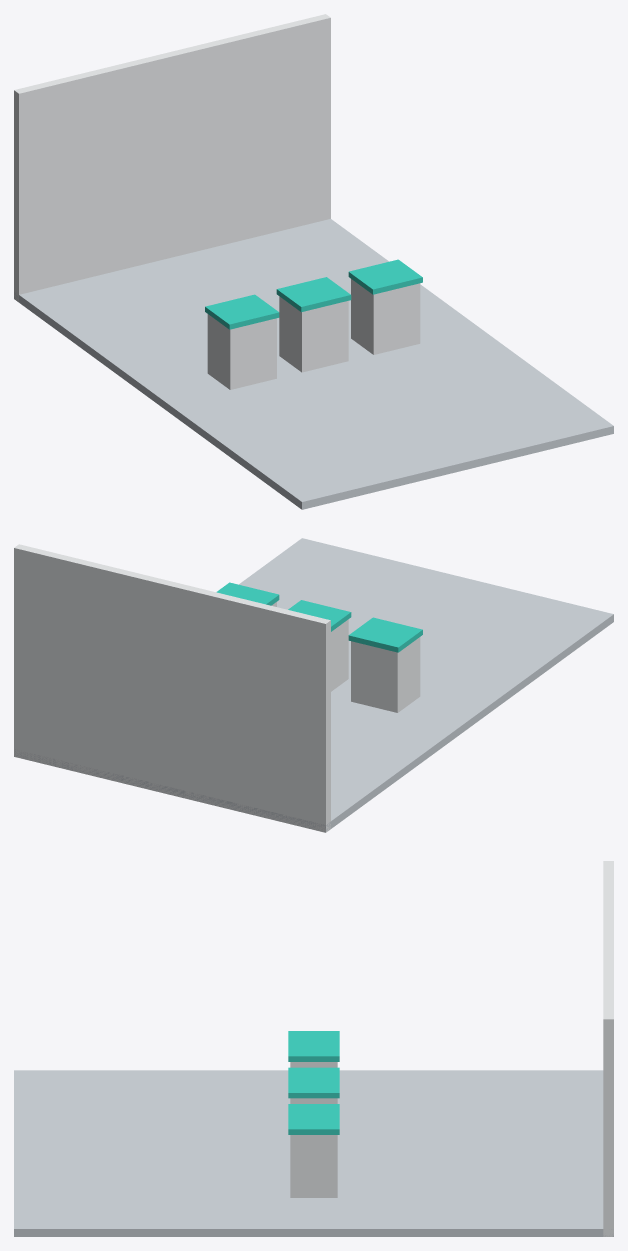
The picture shows the model from 3 angles, top to bottom: view 1: azimuth 30°, elevation 25°; view 2: azimuth 150°, elevation 25°; view 3: azimuth 270°, elevation 25°; orthographic projection. The views are drawn at different scales.
Visible parts, largest first — view 1: Exhibition Booth Concept; view 2: Exhibition Booth Concept; view 3: Exhibition Booth Concept.
Boxes of the visible parts, x1,y1,x2,y2 form: Exhibition Booth Concept: (14,14,613,509); Exhibition Booth Concept: (14,538,613,832); Exhibition Booth Concept: (14,861,613,1236).
Bounding box in the file's own units: 5 × 3.2 × 8.
